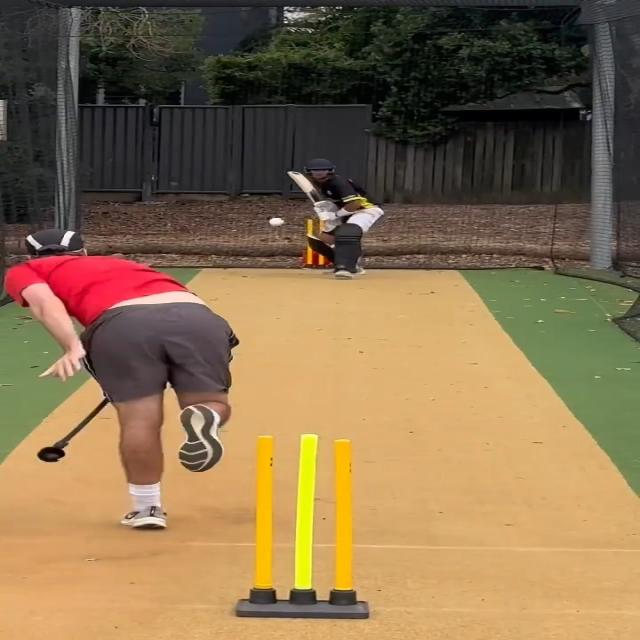ball: (268, 215, 288, 228)
stump: (236, 432, 370, 618)
